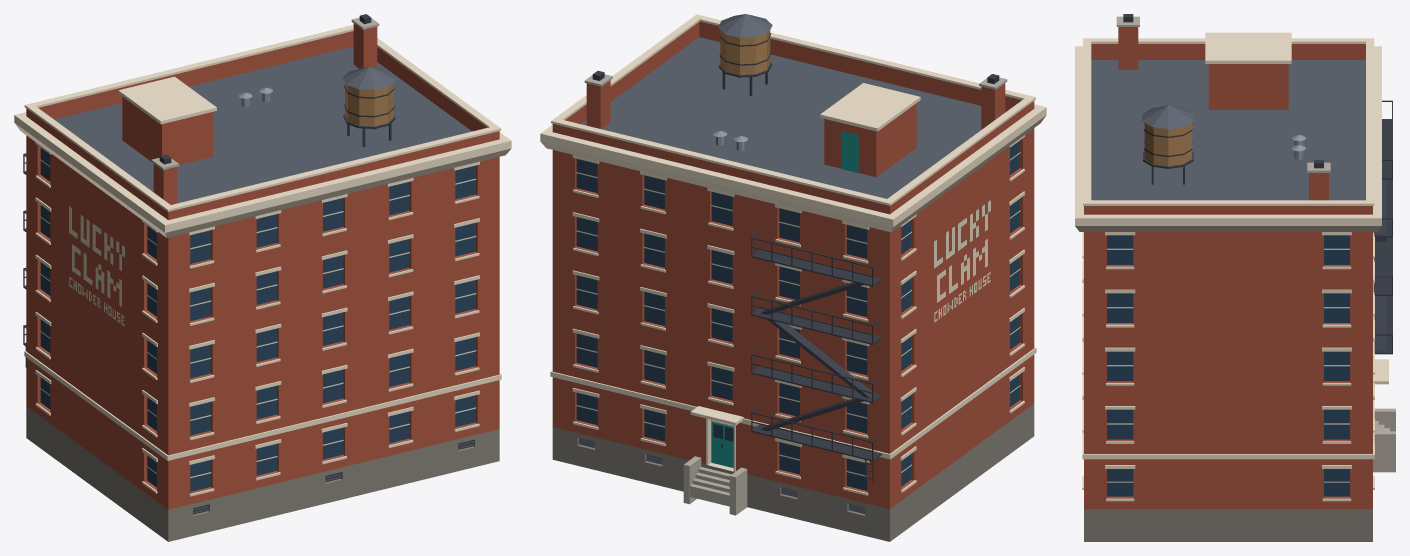
File: apartment_c.glb
3 renders of one model, left to right at view 1: azimuth 30°, elevation 25°; view 2: azimuth 150°, elevation 25°; view 3: azimuth 270°, elevation 25°, orthographic.
Parts seen in each view (by area): view 1: Building, Building_Glass, Building_Detail; view 2: Building, Building_Glass, Building_Detail; view 3: Building, Building_Glass, Building_Detail.
Part boxes in pixels (bbox=[...]): Building: bbox=[14, 14, 511, 541]; Building_Glass: bbox=[40, 148, 475, 491]; Building_Detail: bbox=[23, 66, 395, 367]; Building: bbox=[540, 14, 1046, 541]; Building_Glass: bbox=[576, 141, 1019, 490]; Building_Detail: bbox=[713, 14, 990, 482]; Building: bbox=[1075, 14, 1395, 541]; Building_Glass: bbox=[1107, 235, 1349, 496]; Building_Detail: bbox=[1142, 100, 1392, 354].
Bounding box in the file's own units: 20.3 × 21.59 × 15.99.
